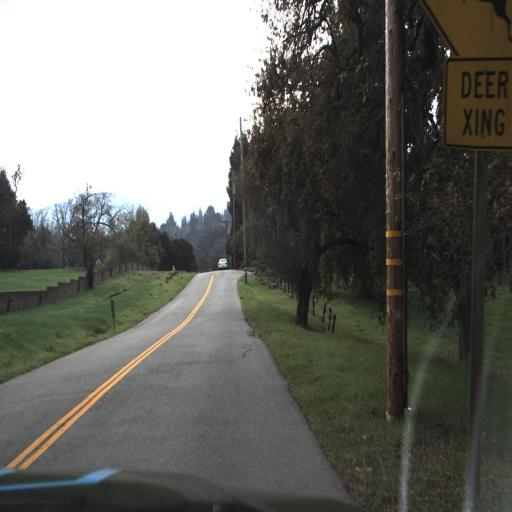car: (214, 248, 232, 270), (216, 256, 228, 271)
